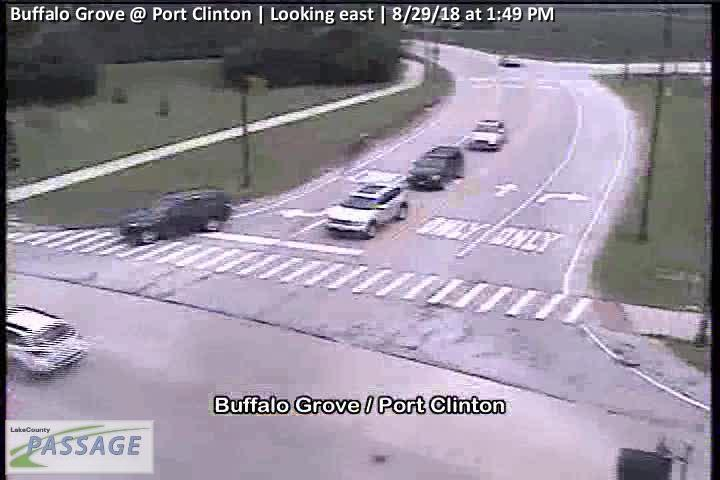SUV: (119, 189, 232, 244), (8, 304, 88, 376), (325, 183, 407, 236)
Sedan: (409, 142, 465, 187), (470, 121, 506, 151), (499, 55, 520, 66)
